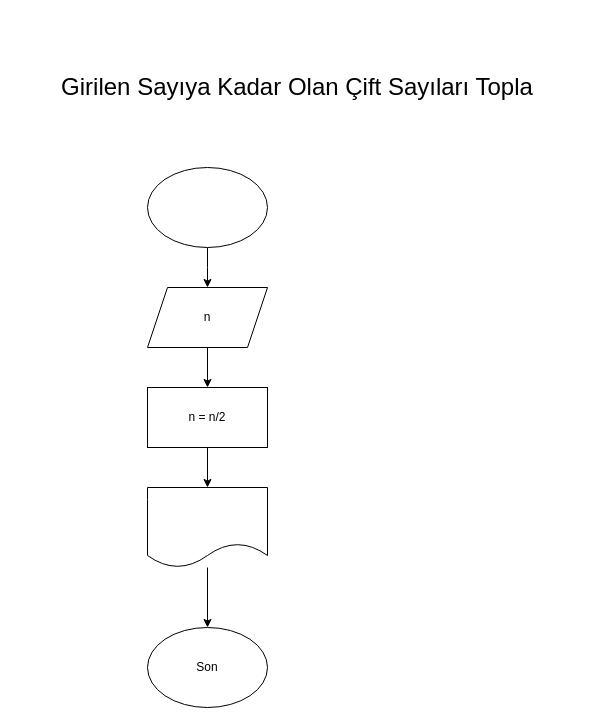
Image size: 594x725. Some labels were removed from this diagram. Each missing label, with the centre of its shape:
"Başla" goes at (207,207).
"n*(n+1)" goes at (207,527).
